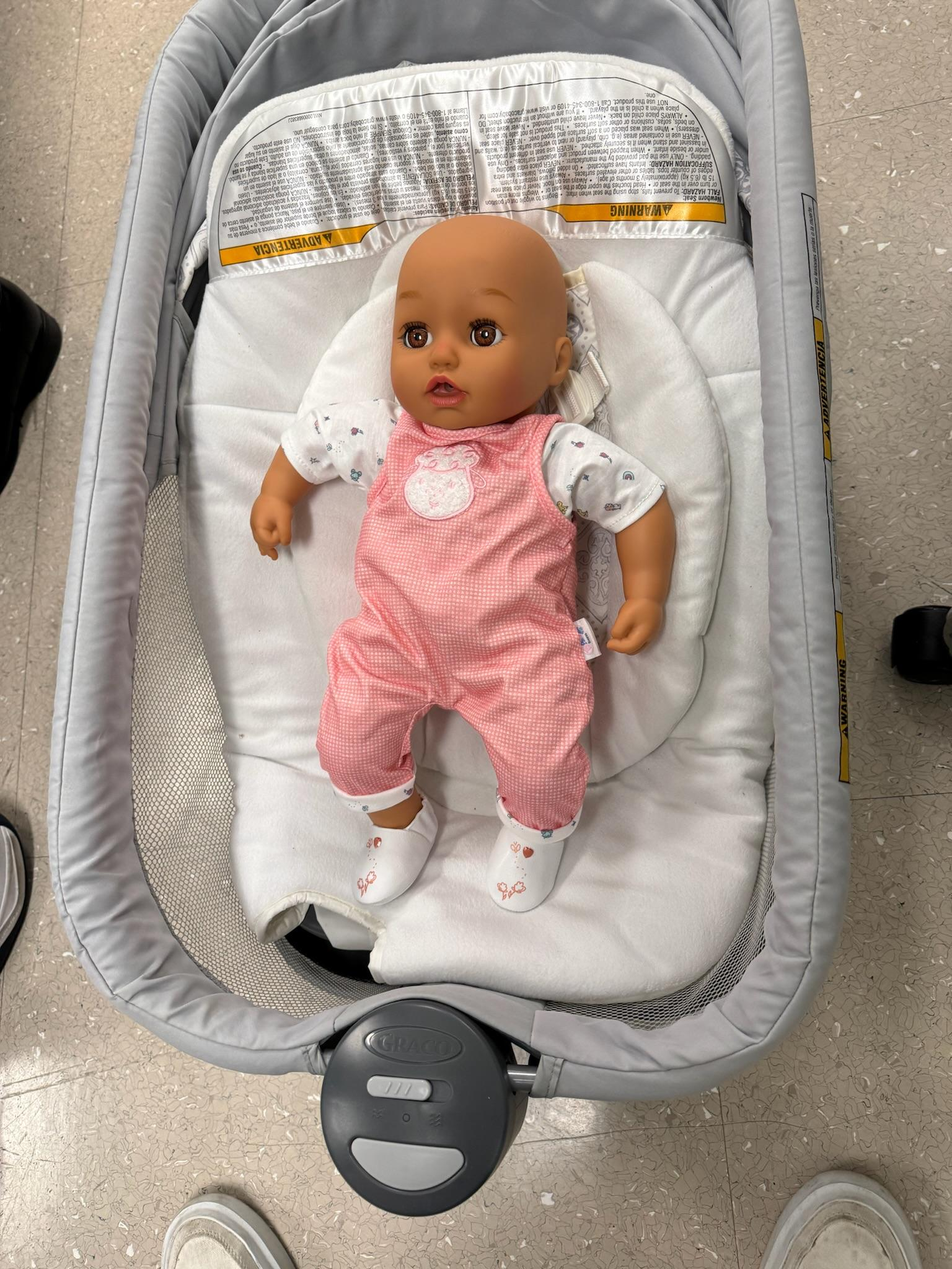baby: (245, 208, 688, 916)
